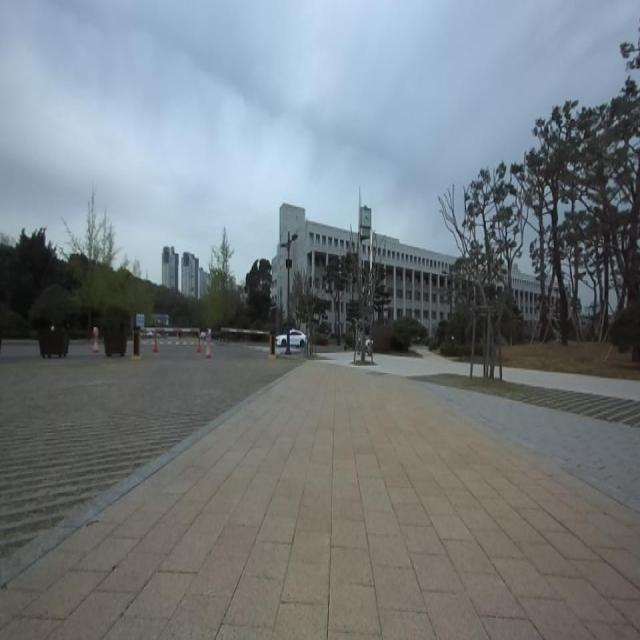sidewalk: (0, 361, 640, 639), (504, 366, 640, 400), (374, 353, 470, 376), (326, 353, 352, 365)
